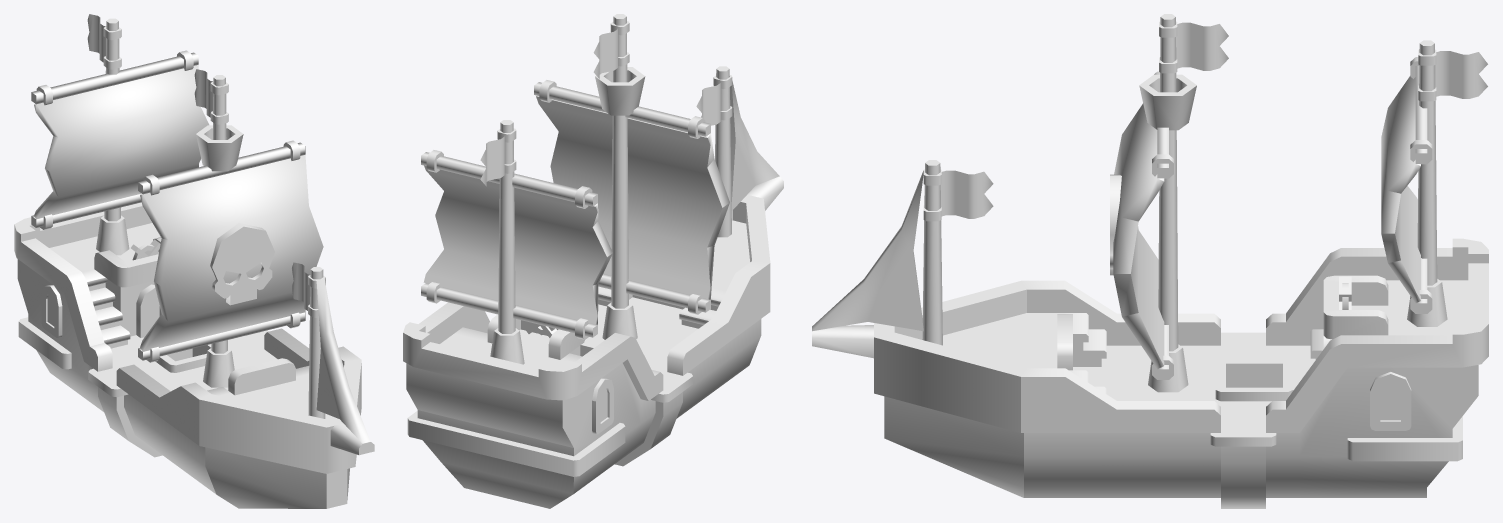
File: ship-pirate-large.glb
The picture shows the model from 3 angles, left to right: view 1: azimuth 30°, elevation 25°; view 2: azimuth 150°, elevation 25°; view 3: azimuth 270°, elevation 25°; orthographic projection. The views are drawn at different scales.
Parts seen in each view (by area): view 1: ship-pirate-large, sail-a, sail-b, flag-c (×3); view 2: ship-pirate-large, sail-a, sail-b, flag-c (×3); view 3: ship-pirate-large, sail-a, sail-b, flag-c (×3).
Part boxes in pixels (x1=…): ship-pirate-large: x1=14, y1=18, x2=374, y2=508; sail-a: x1=138, y1=140, x2=323, y2=362; sail-b: x1=31, y1=50, x2=209, y2=229; flag-c (×3): x1=87, y1=14, x2=325, y2=317; ship-pirate-large: x1=403, y1=14, x2=783, y2=508; sail-a: x1=534, y1=80, x2=729, y2=314; sail-b: x1=421, y1=150, x2=612, y2=339; flag-c (×3): x1=480, y1=21, x2=732, y2=186; ship-pirate-large: x1=812, y1=14, x2=1488, y2=508; sail-a: x1=1110, y1=71, x2=1173, y2=379; sail-b: x1=1381, y1=57, x2=1432, y2=313; flag-c (×3): x1=923, y1=21, x2=1487, y2=221.
Bounding box in the file's own units: 4.8 × 9.96 × 13.1.
Materials: 1 (1 with a texture image).
